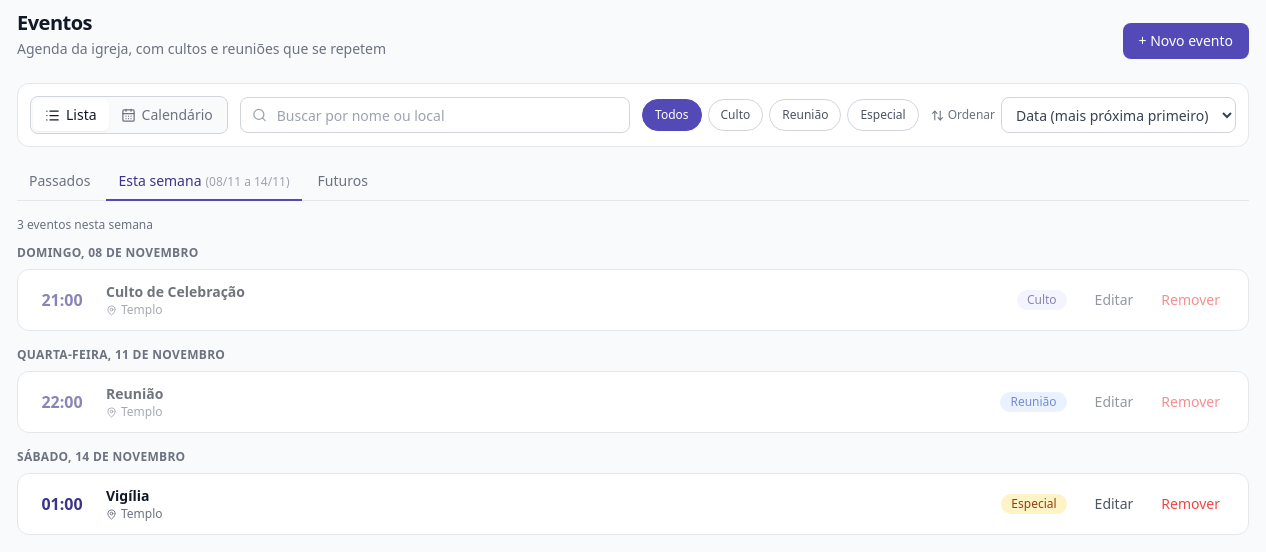
Scenario: EventosPage › aba "Passados" busca antes desta semana, do mais recente para o mais antigo
What coordinates should you click on to do the following:
click the tab "Passados"
I would click on:
 (60, 182)
Its box is [17,163,102,201].
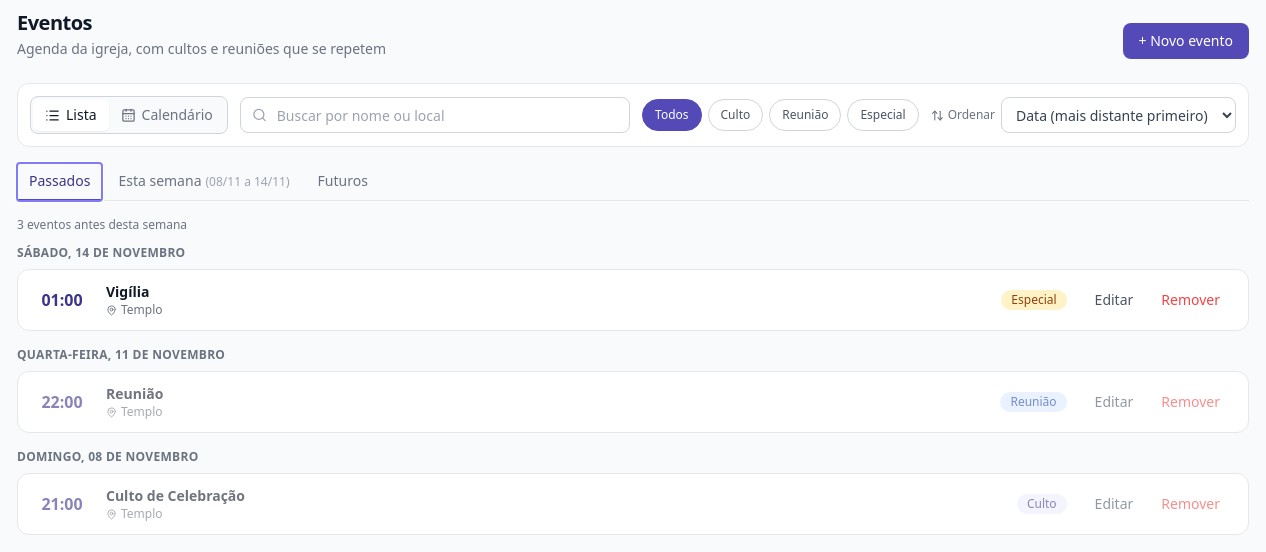
Expected: the dropdown labelled "Ordenar" shows "Data (mais distante primeiro)", [1001,97,1236,133]
